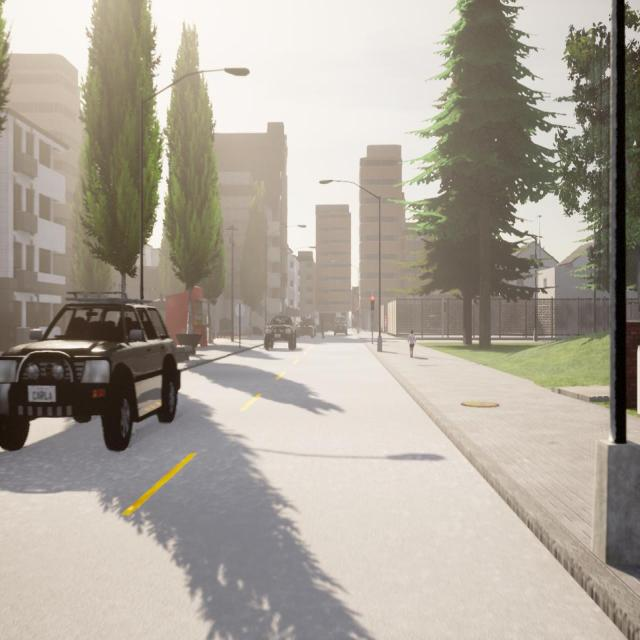Pedestrian: (408, 330, 416, 357)
Traffic_Signs: (235, 304, 244, 318)
Vehicle: (0, 294, 180, 450), (264, 314, 296, 350), (297, 319, 316, 338), (333, 322, 348, 336)
traffic_light: (370, 295, 374, 310)
